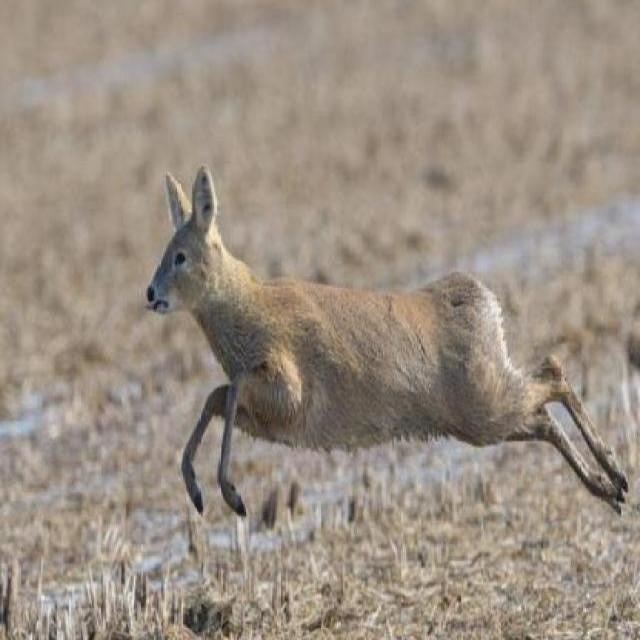deer: (150, 169, 632, 540)
